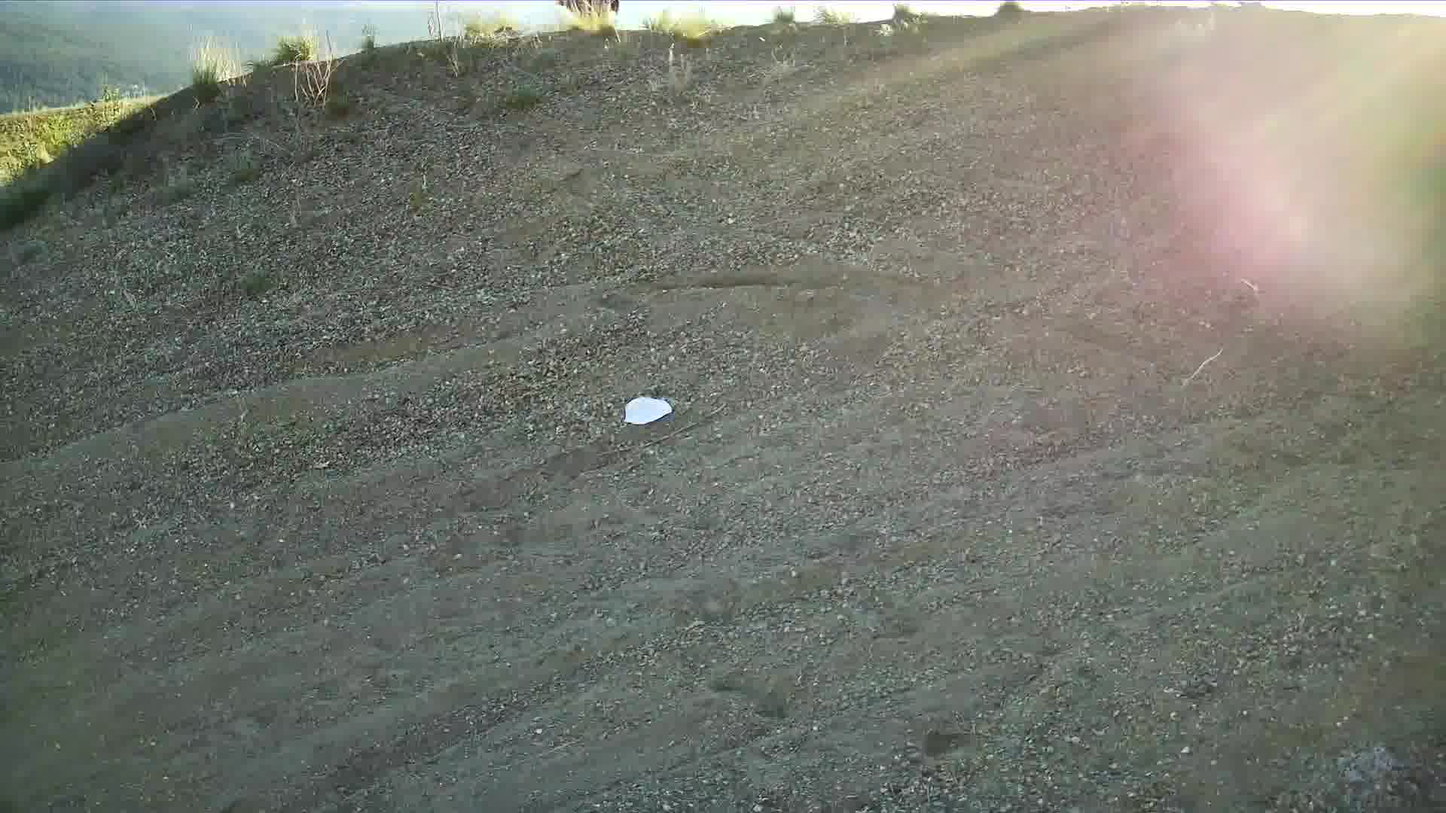Target: (625, 393, 669, 422)
